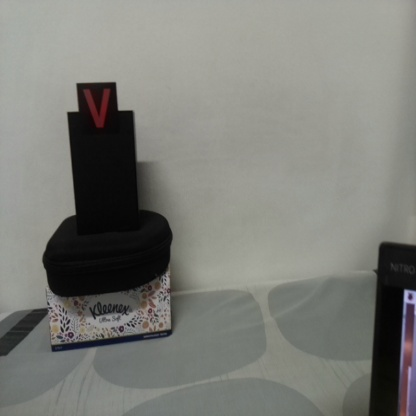id_11: (77, 84, 118, 138)
